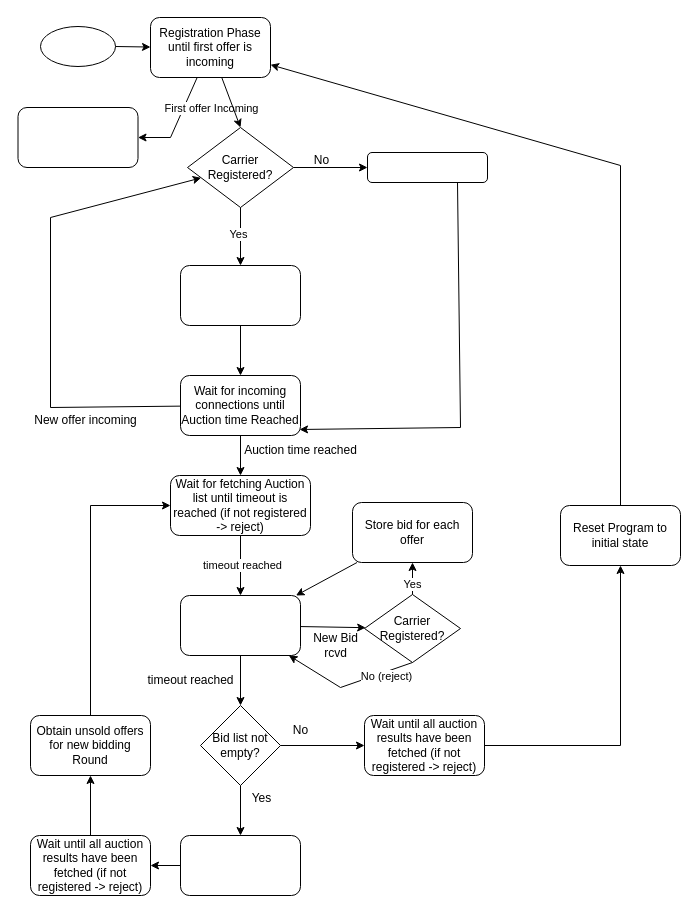
The diagram is 698 pixels wide and 913 high, and some of its shapes have lost their labels. The centre of each missing label's shape, as x and y in pixels:
Accept lowest offers for each individual offer: point 240,865
Reject Offer: point 427,167
Set Auction Time in Future: point 77,137
Start: point 78,46
Store Auction Data: point 240,295
Wait for bids until timeout is reached: point 240,625
